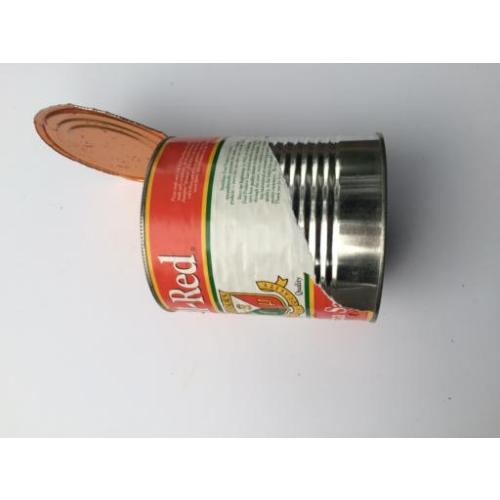metal: (141, 134, 383, 323)
